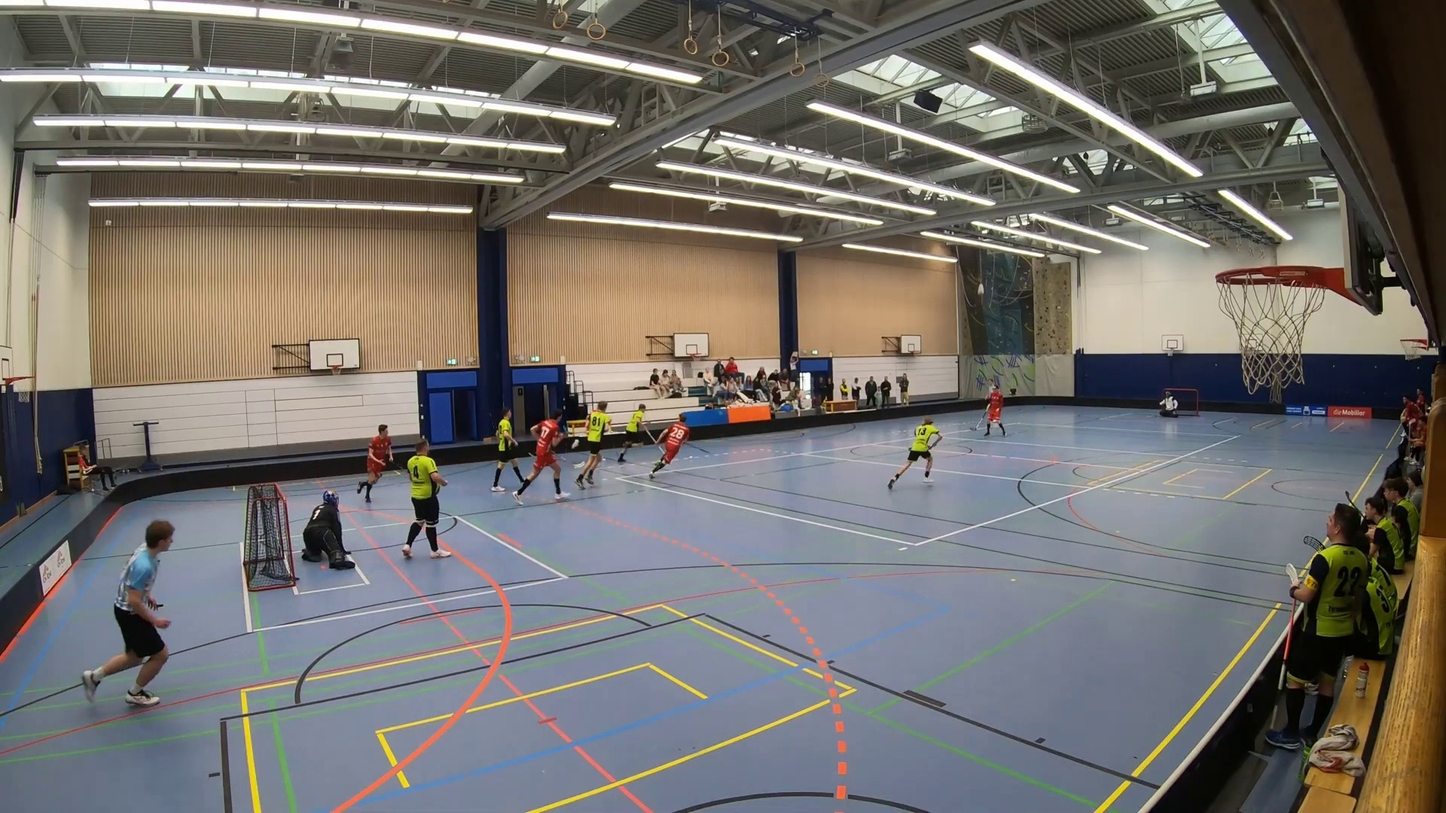Schiri: (74, 516, 186, 722), (986, 377, 996, 393)
ball: (689, 454, 694, 460)
goalkeeper: (283, 484, 365, 581), (1149, 389, 1180, 419)
player: (388, 438, 466, 567), (507, 413, 571, 511), (647, 410, 714, 484), (574, 393, 616, 504), (885, 413, 944, 491), (353, 422, 410, 501), (486, 401, 528, 493), (619, 401, 665, 468), (974, 387, 1012, 444)
